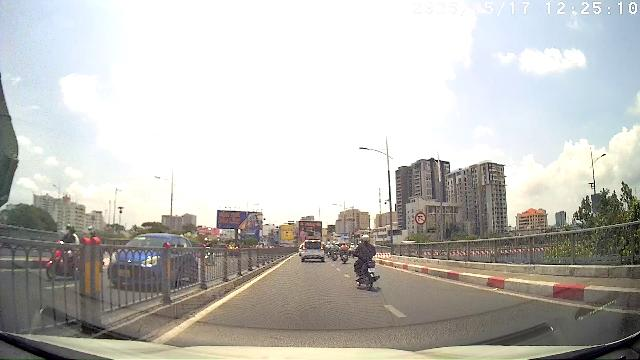123b-cam-re-phai: (414, 212, 427, 225)
